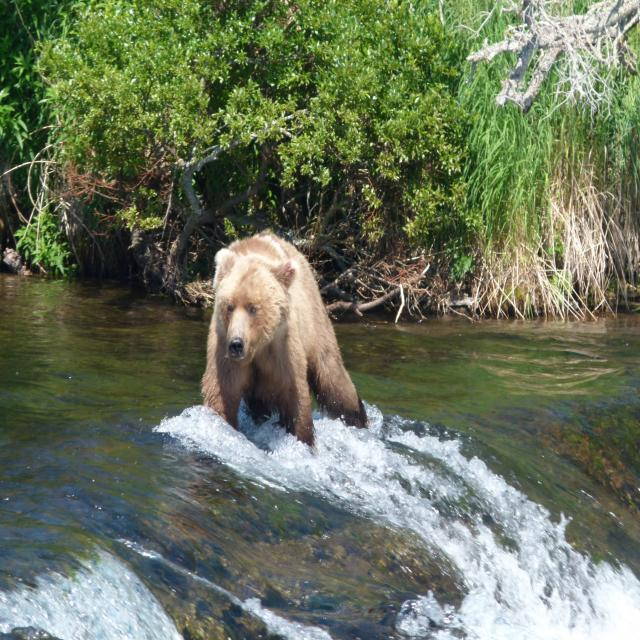bear face: (206, 232, 362, 438)
